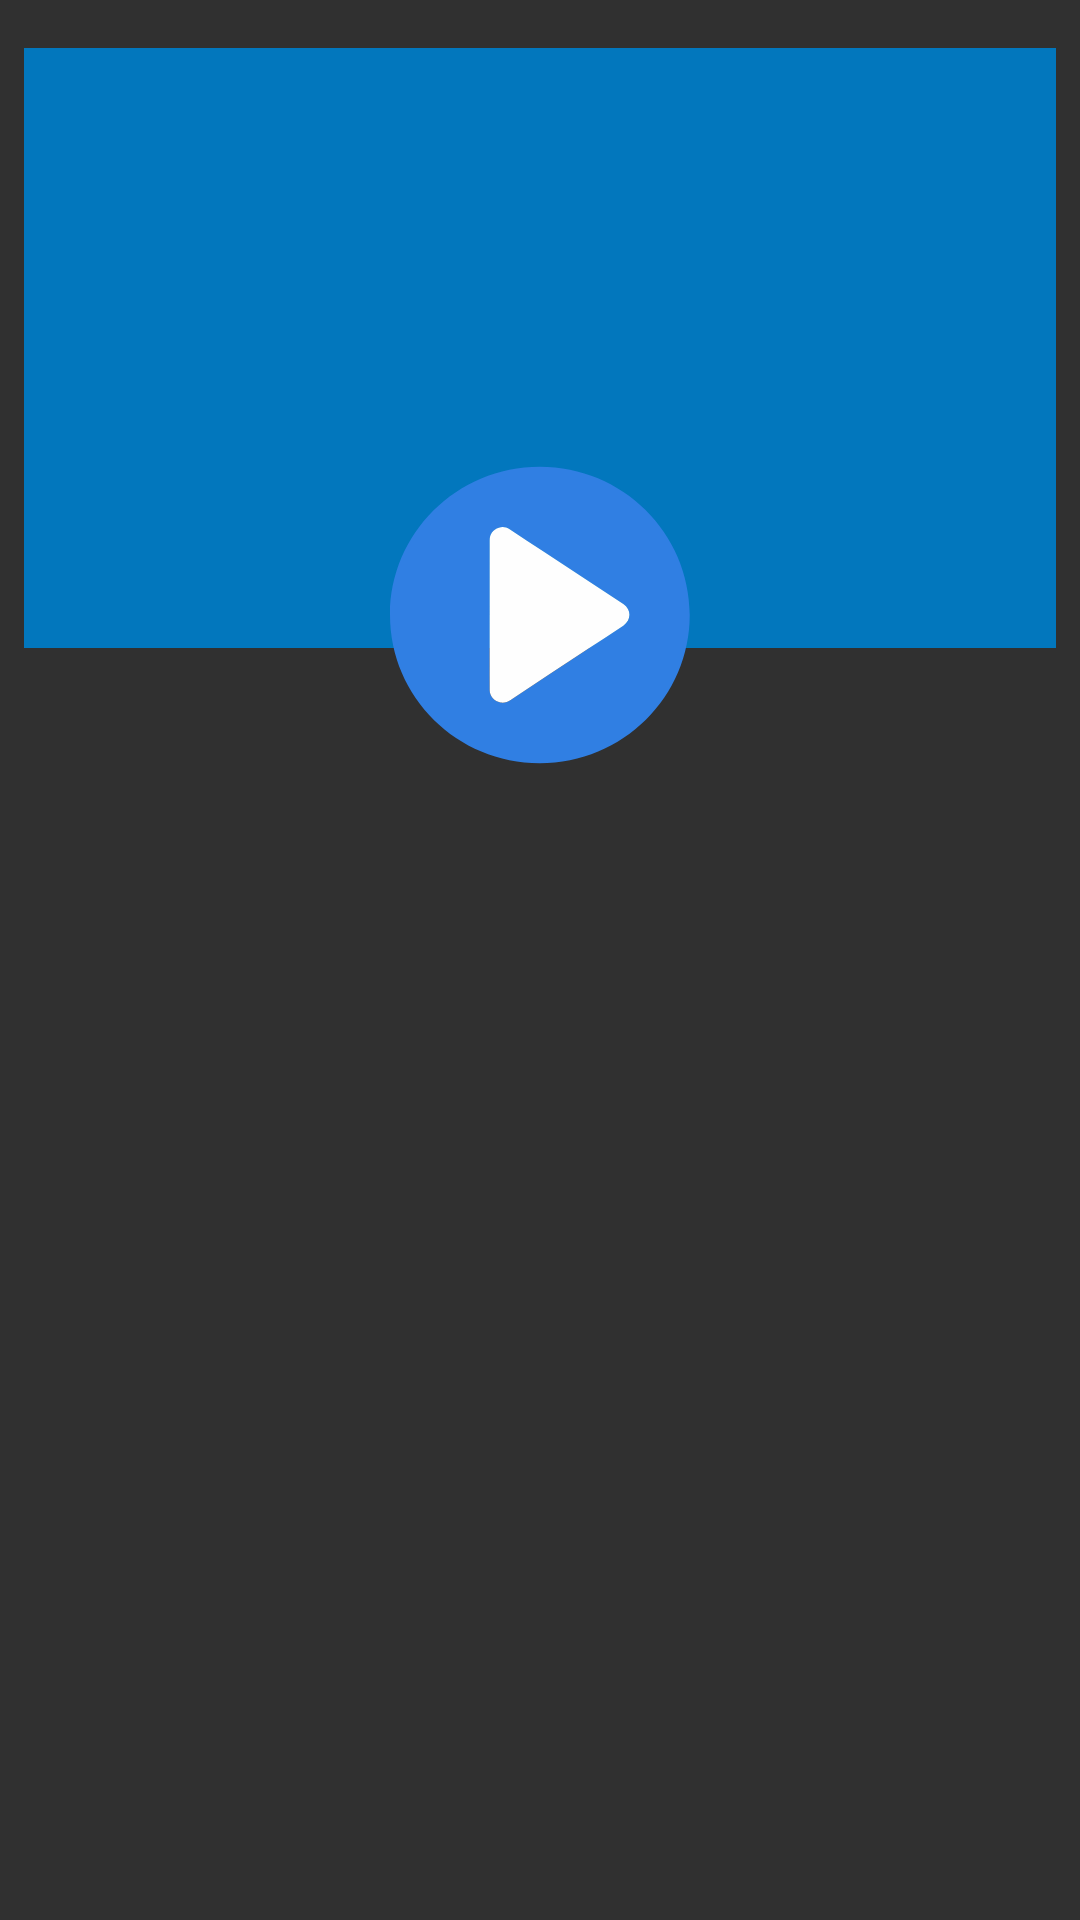

Named icons in this screenshot (1080px x 1920px) and their centers, [x,y]:
lapp play: [540,616]
